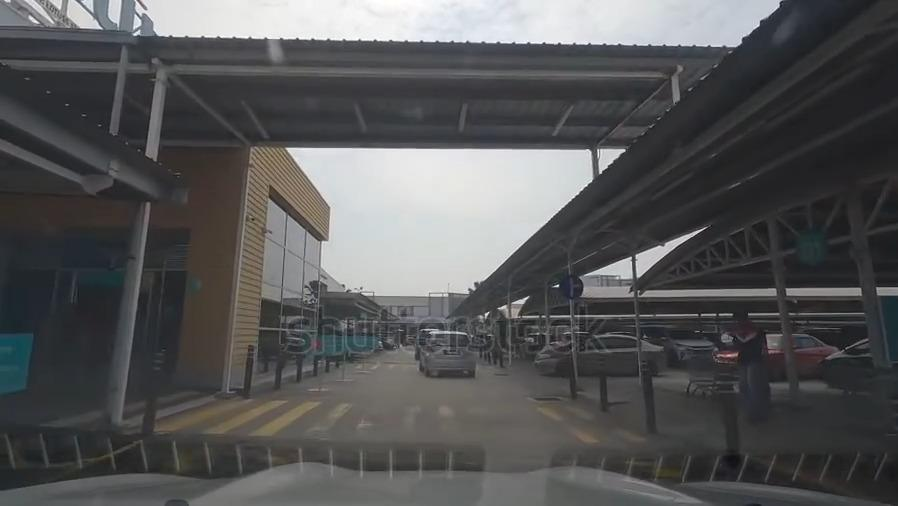car: (537, 335, 669, 383), (712, 338, 847, 381), (820, 339, 881, 391), (421, 328, 474, 378), (656, 325, 715, 367)
manhole: (526, 394, 566, 404)
pedestrian: (139, 406, 673, 443), (329, 360, 512, 368)
person: (728, 310, 775, 422)
speedbump: (87, 451, 739, 473)
